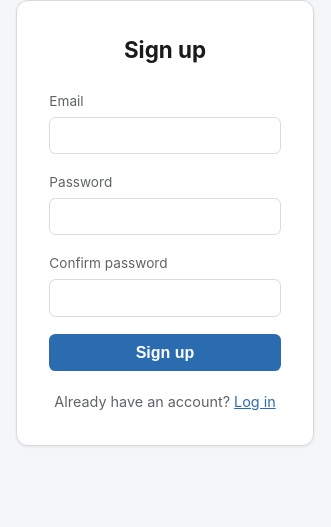
falls back to a generic message for a refusal naming none of the three fields
Type "alice@example.com" into the field labelled "Email" at point(165, 135), box [49,117,281,154]
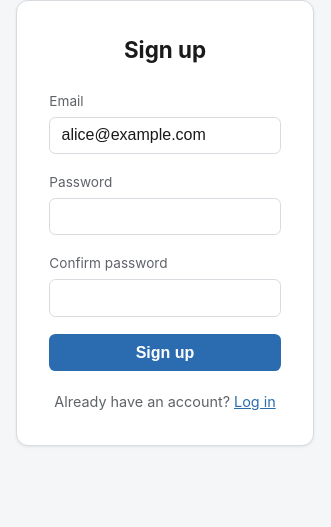
Type "correct horse battery" into the password field labelled "Password" at point(165, 217), box [49,198,281,235]
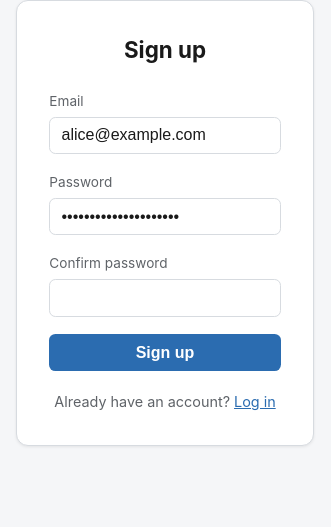
Type "correct horse battery" into the password field labelled "Confirm password" at point(165, 298), box [49,279,281,316]
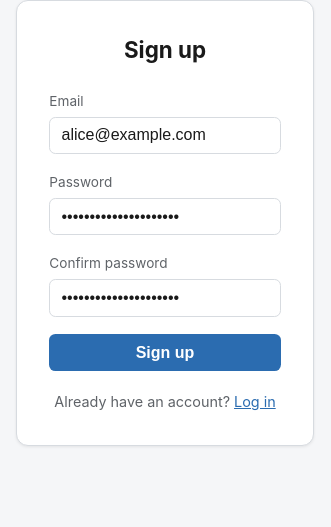
Click the button "Sign up" at point(165, 353), box [49,334,281,371]
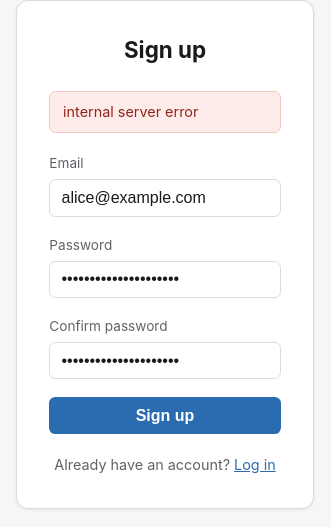
Now the text "internal server error" is shown, box [49,91,281,133]
